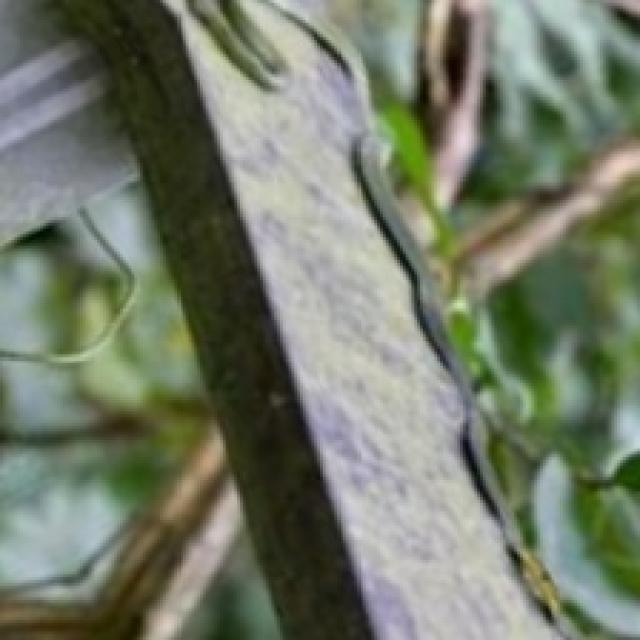paradise tree snake: (63, 0, 566, 637)
